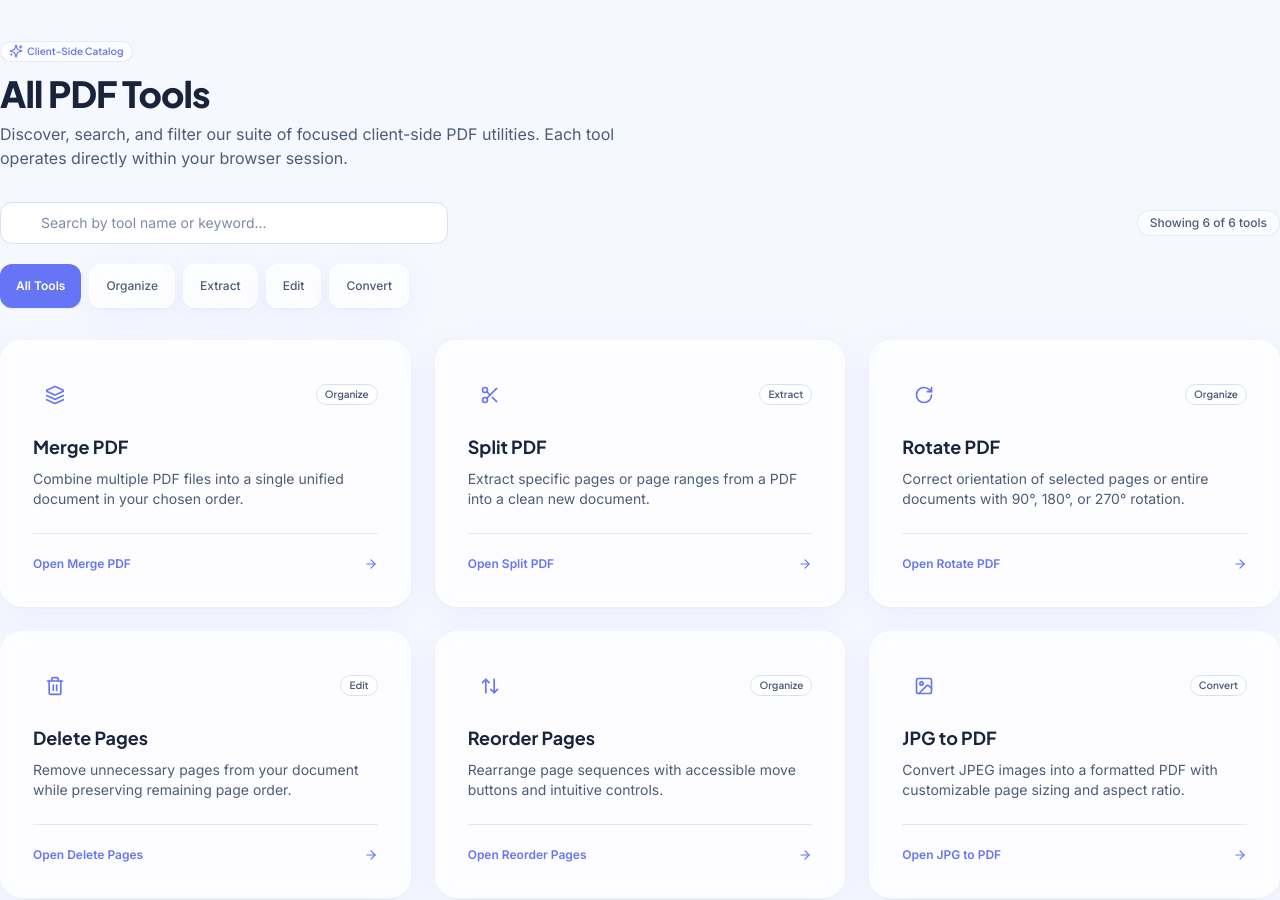
Test: AllTools Page Component (WEB-02) › allows clearing search input via inline X button
Step 1. Type "merge" into the field with placeholder "Search by tool name or keyword..." → (224, 222), box [0,202,448,244]
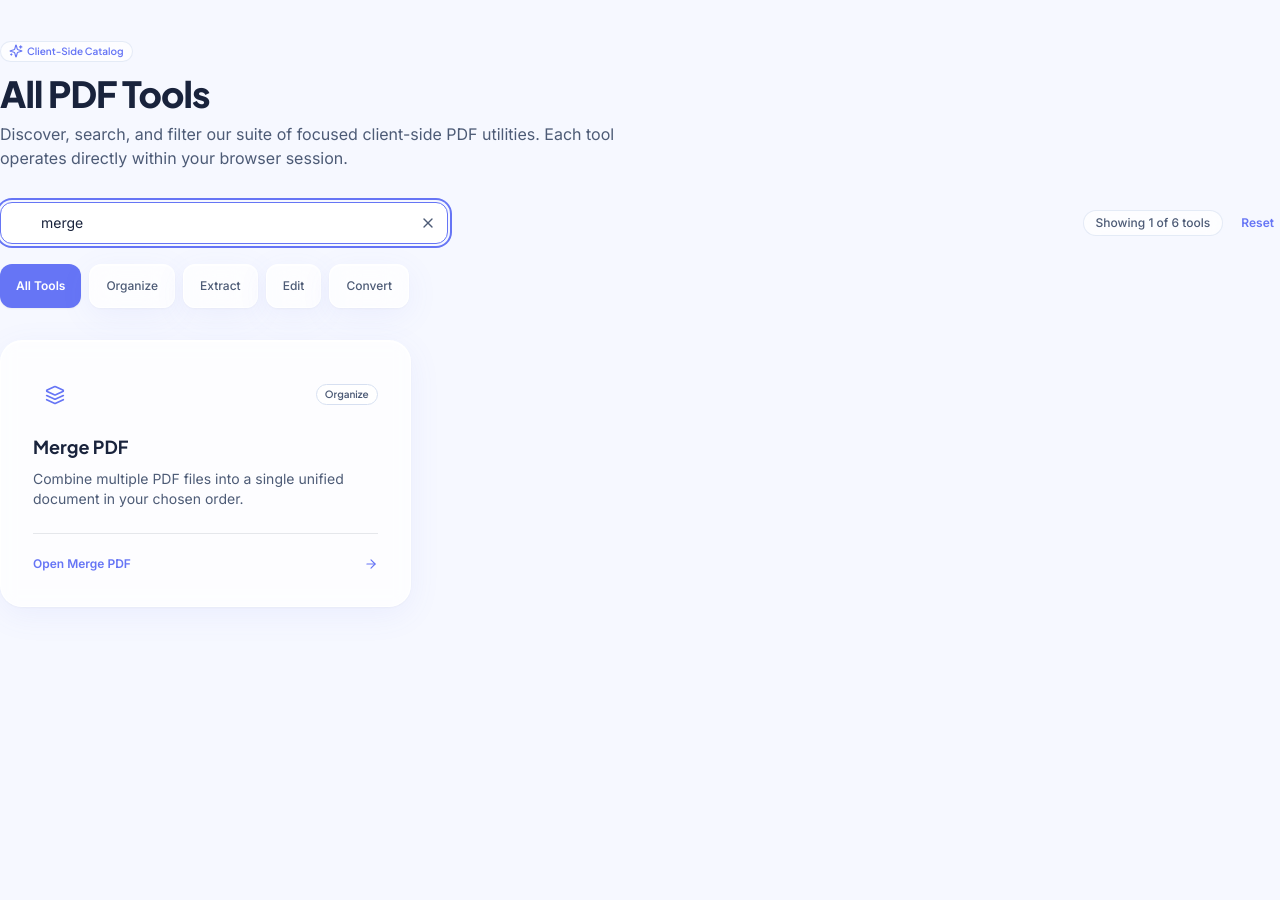
Expected: the text "Showing 1 of 6 tools" is shown, [1082,210,1223,236]
Step 2. Click the button named "Clear search query" → (434, 222), box [420,202,448,244]
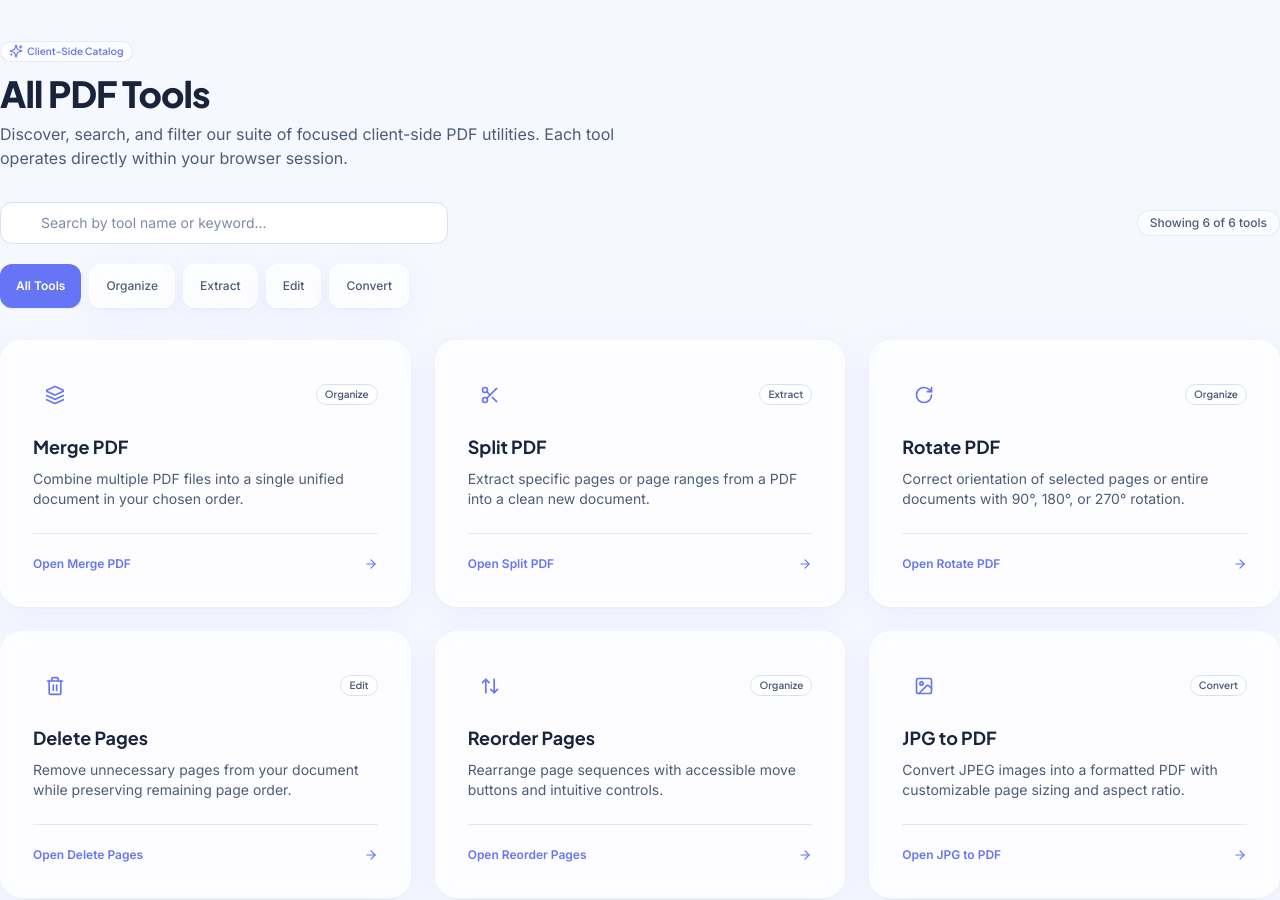
Expected: the field with placeholder "Search by tool name or keyword..." is empty, [0,202,448,244]
Expected: the text "Showing 6 of 6 tools" is shown, [1137,210,1279,236]
